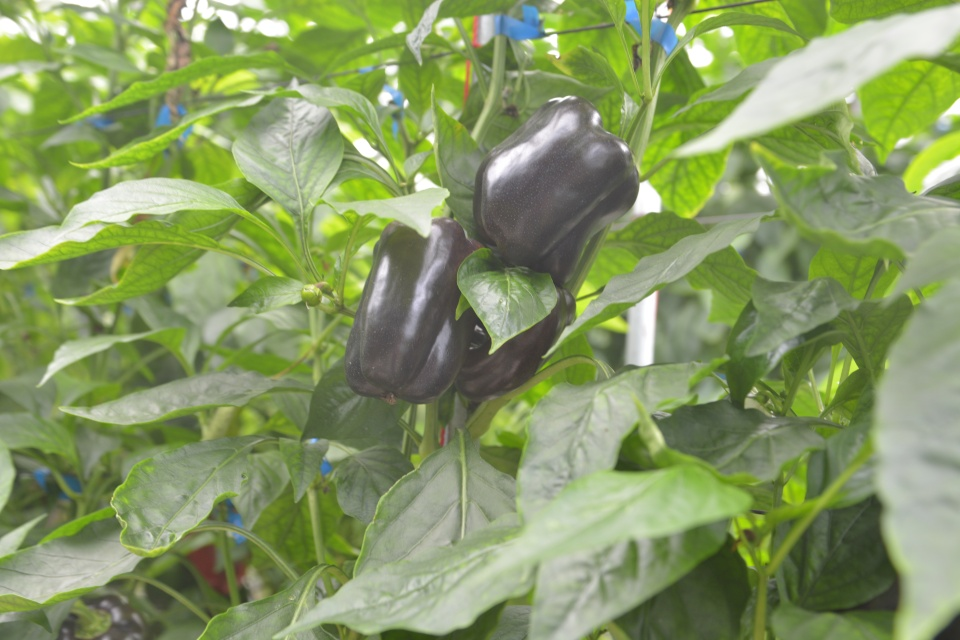fruit: (471, 93, 639, 285), (343, 214, 485, 406), (452, 242, 577, 403)
